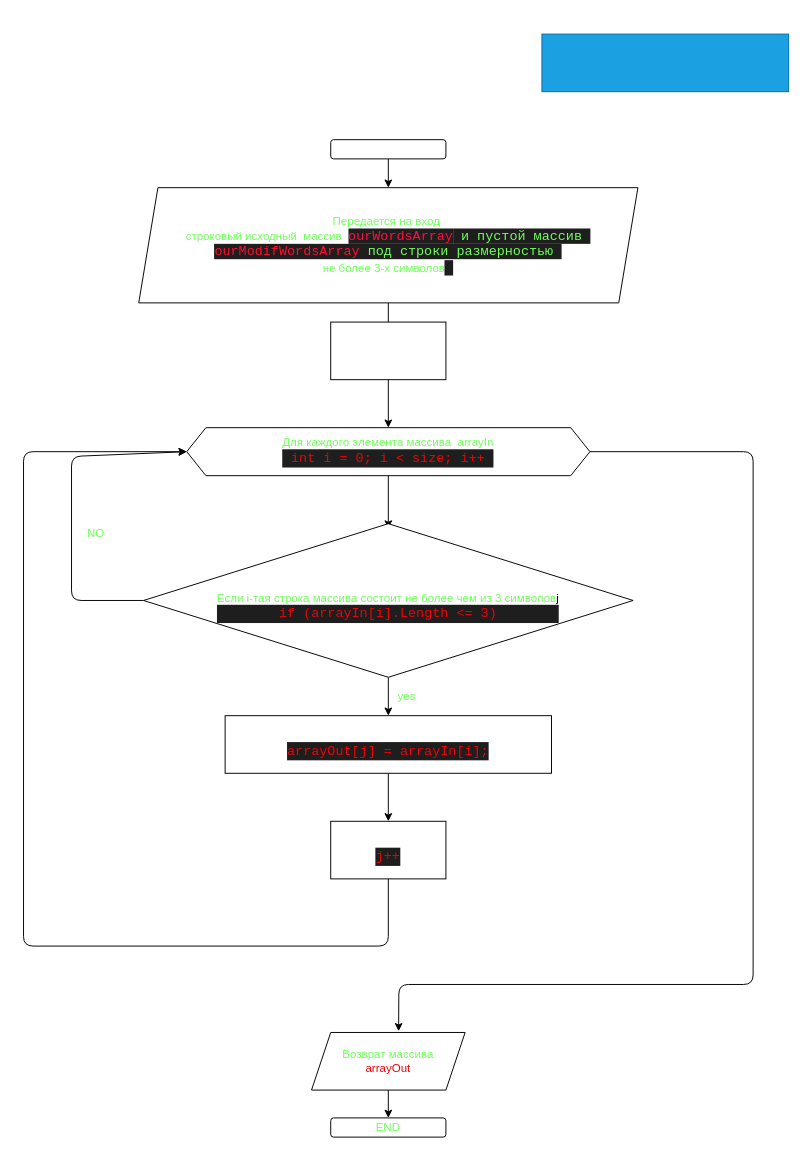
The diagram is 805 pixels wide and 1154 high, and some of its shapes have lost their labels. Here are the shapes that lost their labels. From the top down, the box of each, then its label:
(541, 33, 789, 92): Заполнение массива строками длиной от 1 по 3 символа
(330, 139, 446, 159): Start
(330, 321, 446, 380): int j = 0;
